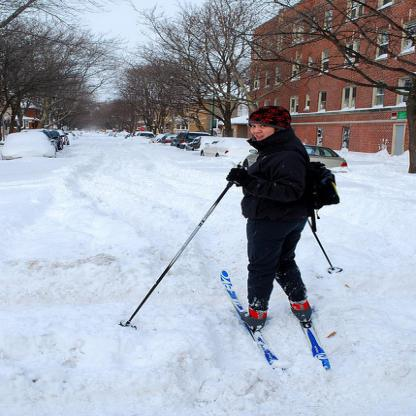backpack: (311, 163, 341, 209)
